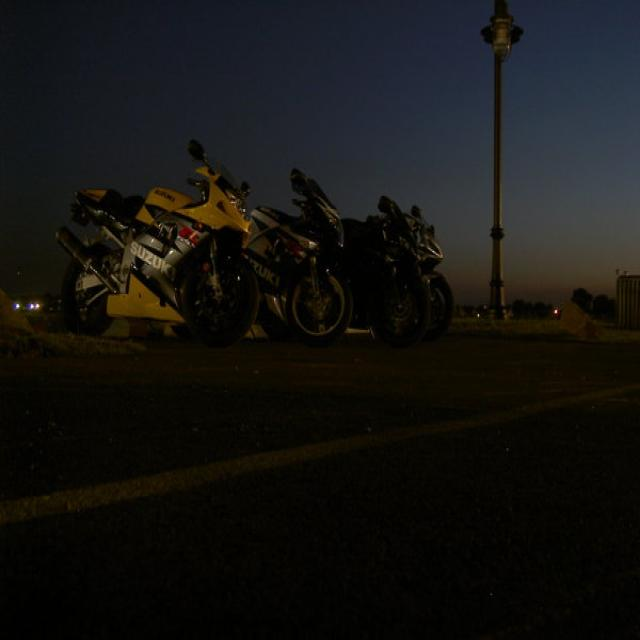Motorbike: (246, 173, 471, 349), (65, 164, 252, 356)
